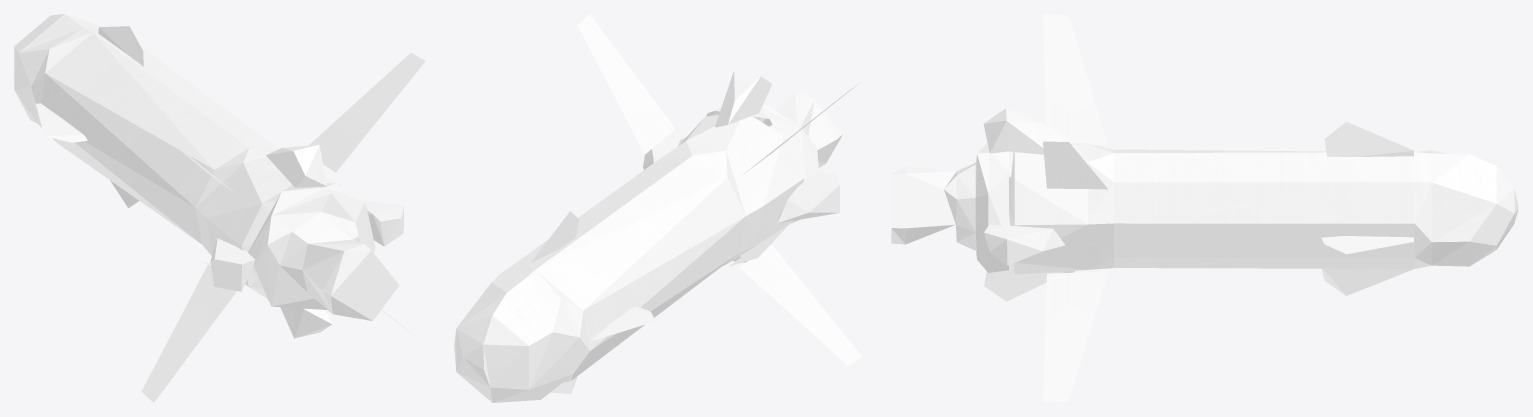
The model's file is fx_c015_sk2_sparklingmissile_arena__fx_rocket_03.glb.
The picture shows the model from 3 angles, left to right: view 1: azimuth 30°, elevation 25°; view 2: azimuth 150°, elevation 25°; view 3: azimuth 270°, elevation 25°; orthographic projection. The views are drawn at different scales.
Visible parts, largest first — view 1: fx_c015_sk2_sparklingmissile_arena; view 2: fx_c015_sk2_sparklingmissile_arena; view 3: fx_c015_sk2_sparklingmissile_arena.
Boxes of the visible parts, left/top/right/bottom form: fx_c015_sk2_sparklingmissile_arena: left=14, top=14, right=425, bottom=402; fx_c015_sk2_sparklingmissile_arena: left=454, top=14, right=862, bottom=402; fx_c015_sk2_sparklingmissile_arena: left=891, top=14, right=1518, bottom=402.
Bounding box in the file's own units: 0.8093 × 0.7839 × 1.68.
Materials: 1 (1 with a texture image).
